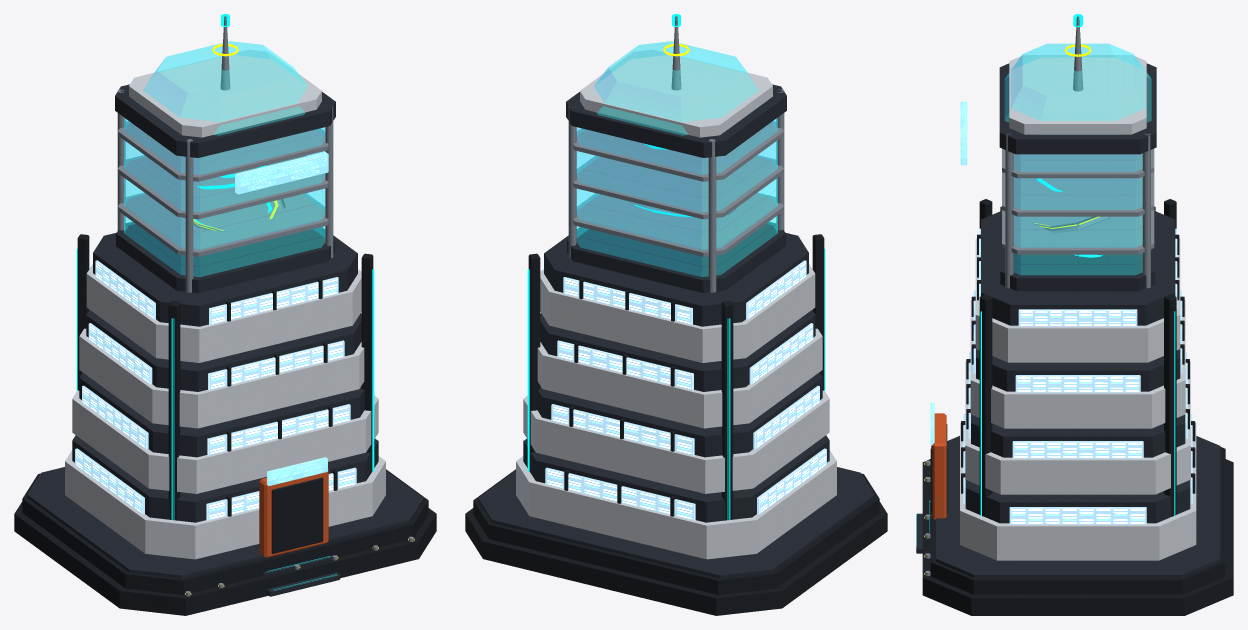
The model's file is bldg_17_r1_01.glb.
The picture shows the model from 3 angles, left to right: view 1: azimuth 30°, elevation 25°; view 2: azimuth 150°, elevation 25°; view 3: azimuth 270°, elevation 25°; orthographic projection.
Visible parts, largest first — view 1: Bldg17_C01_aero_white, Bldg17_C01_carbon_slate, Bldg17_C01_glass_cyan, Bldg17_C01_gunmetal, Bldg17_C01_steel_machined, Bldg17_C01_window_lit, Bldg17_C01_marquee, Bldg17_C01_led_cyan, Bldg17_C01_accent_orange; view 2: Bldg17_C01_aero_white, Bldg17_C01_carbon_slate, Bldg17_C01_glass_cyan, Bldg17_C01_gunmetal, Bldg17_C01_steel_machined, Bldg17_C01_window_lit, Bldg17_C01_led_cyan; view 3: Bldg17_C01_aero_white, Bldg17_C01_carbon_slate, Bldg17_C01_glass_cyan, Bldg17_C01_gunmetal, Bldg17_C01_steel_machined, Bldg17_C01_window_lit, Bldg17_C01_accent_orange, Bldg17_C01_led_cyan, Bldg17_C01_marquee.
Boxes of the visible parts, box(x1,y1,x2,y2) form: Bldg17_C01_aero_white: box(65, 50, 385, 559); Bldg17_C01_carbon_slate: box(27, 84, 423, 596); Bldg17_C01_glass_cyan: box(124, 41, 325, 276); Bldg17_C01_gunmetal: box(14, 234, 436, 615); Bldg17_C01_steel_machined: box(117, 16, 413, 596); Bldg17_C01_window_lit: box(75, 260, 356, 520); Bldg17_C01_marquee: box(235, 152, 328, 485); Bldg17_C01_led_cyan: box(76, 14, 374, 590); Bldg17_C01_accent_orange: box(259, 469, 328, 557); Bldg17_C01_aero_white: box(516, 50, 836, 559); Bldg17_C01_carbon_slate: box(478, 84, 874, 578); Bldg17_C01_glass_cyan: box(576, 41, 777, 276); Bldg17_C01_gunmetal: box(465, 234, 887, 615); Bldg17_C01_steel_machined: box(568, 16, 784, 292); Bldg17_C01_window_lit: box(545, 260, 826, 520); Bldg17_C01_led_cyan: box(527, 14, 825, 520); Bldg17_C01_aero_white: box(960, 55, 1196, 560); Bldg17_C01_carbon_slate: box(916, 63, 1220, 577); Bldg17_C01_glass_cyan: box(1005, 43, 1151, 274); Bldg17_C01_gunmetal: box(922, 199, 1233, 615); Bldg17_C01_steel_machined: box(925, 16, 1154, 576); Bldg17_C01_window_lit: box(963, 228, 1192, 524); Bldg17_C01_accent_orange: box(932, 413, 946, 519); Bldg17_C01_led_cyan: box(916, 14, 1175, 546); Bldg17_C01_marquee: box(930, 101, 967, 445).
Size of the model in its own units: 12.5 by 19.42 by 10.71.
Materials: 10 (10 with a texture image).
